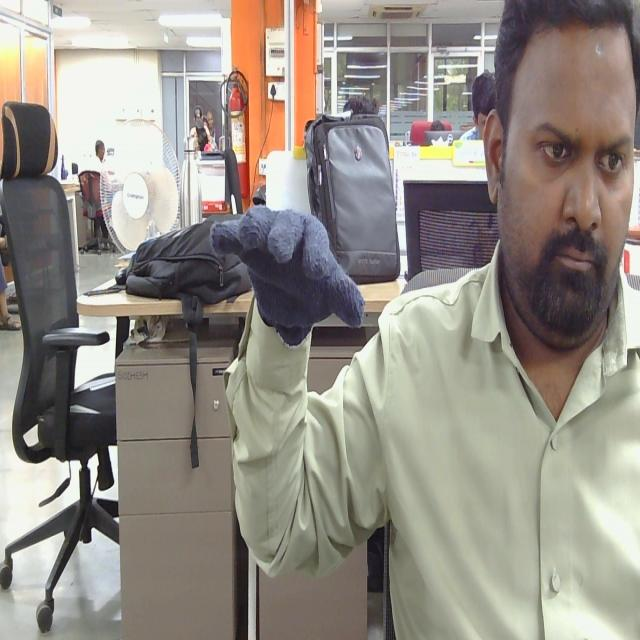Gloves-Detection: (208, 208, 372, 345)
